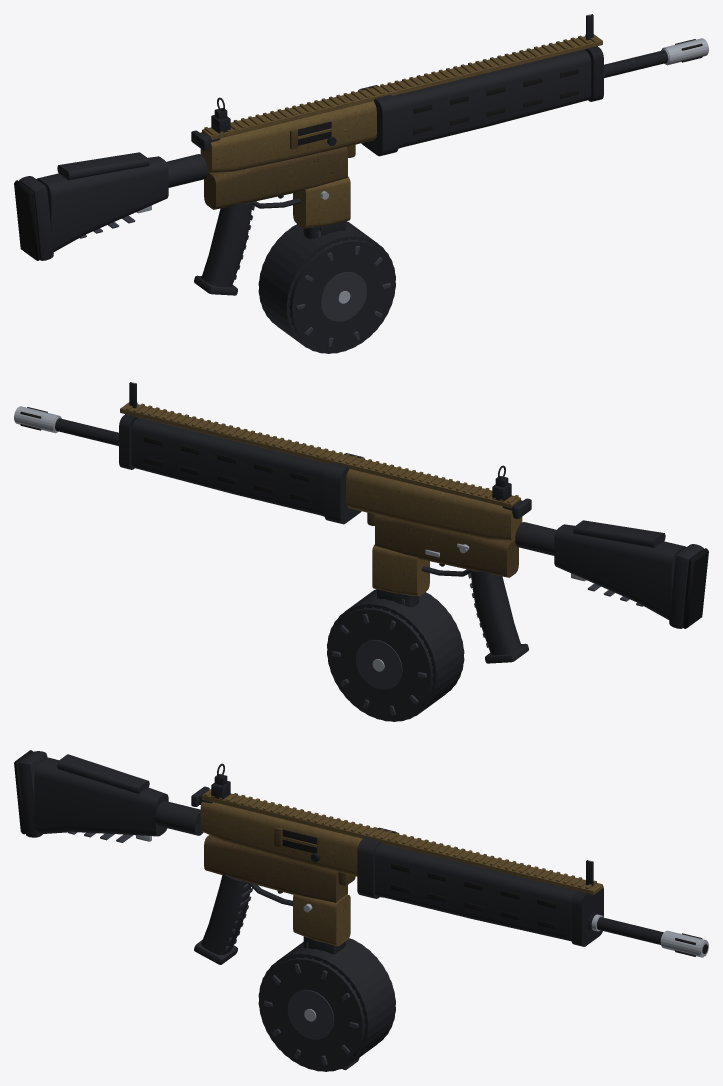
3 renders of one model, top to bottom at view 1: azimuth 30°, elevation 25°; view 2: azimuth 150°, elevation 25°; view 3: azimuth 330°, elevation 25°, orthographic.
Parts seen in each view (by area): view 1: ar7_body, mag_drum, ar7_stock, iron_sights; view 2: ar7_body, mag_drum, ar7_stock, iron_sights; view 3: ar7_body, mag_drum, ar7_stock, iron_sights.
Boxes of the visible parts, left/top/right/bottom form: ar7_body: left=191, top=34, right=708, bottom=295; mag_drum: left=258, top=221, right=395, bottom=353; ar7_stock: left=14, top=152, right=207, bottom=260; iron_sights: left=211, top=14, right=593, bottom=133; ar7_body: left=14, top=402, right=531, bottom=663; mag_drum: left=327, top=589, right=464, bottom=721; ar7_stock: left=515, top=520, right=708, bottom=628; iron_sights: left=129, top=382, right=511, bottom=501; ar7_body: left=191, top=786, right=708, bottom=964; mag_drum: left=258, top=936, right=395, bottom=1071; ar7_stock: left=14, top=750, right=203, bottom=842; iron_sights: left=211, top=763, right=593, bottom=886.
Size of the model in its own units: 0.9334 by 0.3517 by 0.082.
8 materials, 3 textured.
